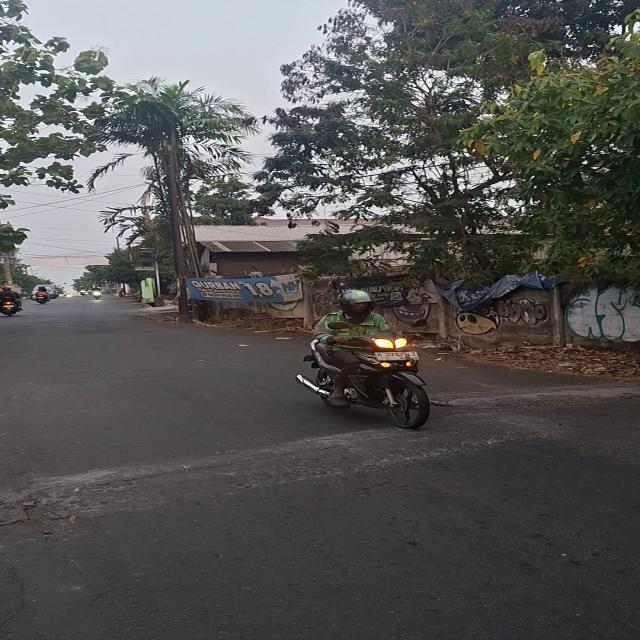WithHelmet: (311, 289, 403, 408), (0, 286, 24, 312), (31, 287, 52, 302)
